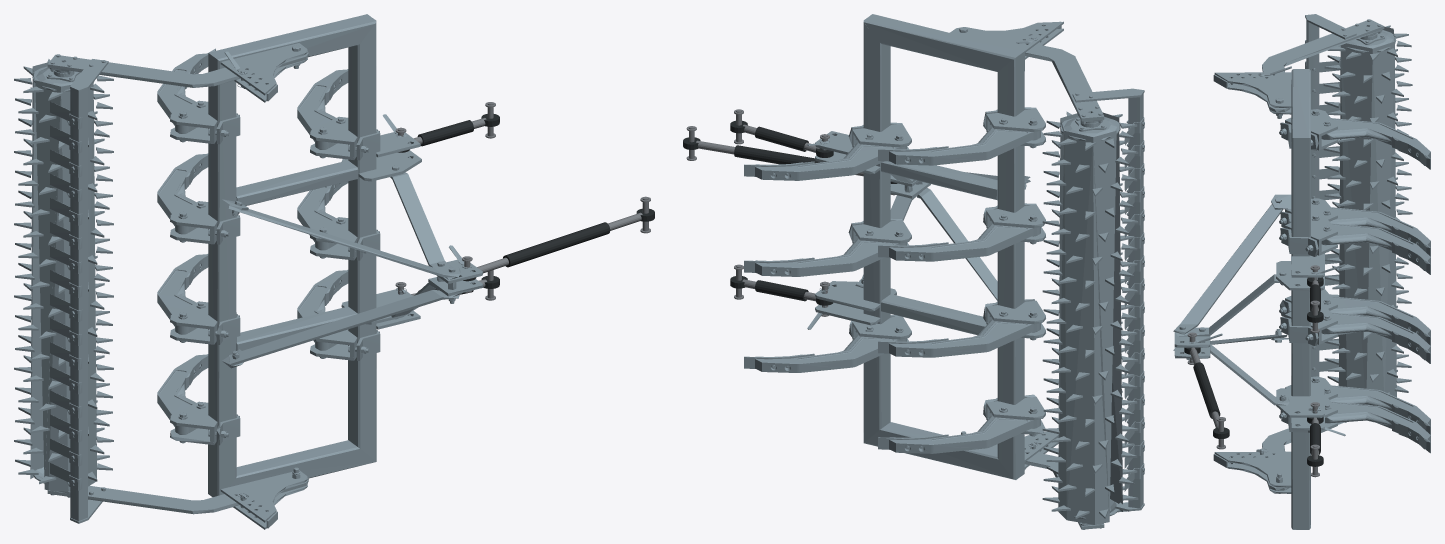
The model's file is implement_compact_chisel_plow_visual.obj.
3 renders of one model, left to right at view 1: azimuth 30°, elevation 25°; view 2: azimuth 150°, elevation 25°; view 3: azimuth 270°, elevation 25°, orthographic. The views are drawn at different scales.
Visible parts, largest first — view 1: solid_218, solid_17, solid_11, solid_215, solid_10, solid_9, solid_27, solid_214, solid_18, solid_213, solid_22, solid_20 (+17 smaller); view 2: solid_218, solid_11, solid_17, solid_10, solid_215, solid_47, solid_97, solid_147, solid_197, solid_72, solid_172, solid_122 (+22 smaller); view 3: solid_218, solid_17, solid_4, solid_214, solid_20, solid_22, solid_122, solid_47, solid_72, solid_215, solid_172, solid_10 (+29 smaller).
Boxes of the visible parts, x1,y1,x2,y2 form: solid_218: (30,62,96,491); solid_17: (348,20,376,461); solid_11: (208,53,236,497); solid_215: (70,89,87,521); solid_10: (208,14,376,61); solid_9: (208,440,375,496); solid_27: (229,290,459,365); solid_214: (47,52,308,87); solid_18: (236,160,358,205); solid_213: (47,479,308,514); solid_22: (220,470,307,522); solid_20: (220,43,307,95); solid_218: (1058,112,1122,524); solid_11: (997,51,1024,479); solid_17: (863,14,890,442); solid_10: (863,14,1024,71); solid_215: (1128,94,1143,508); solid_47: (889,127,1040,165); solid_97: (889,223,1040,261); solid_147: (889,319,1040,357); solid_197: (889,415,1040,453); solid_72: (755,142,906,180); solid_172: (755,334,906,372); solid_122: (755,238,906,276); solid_218: (1338,27,1396,404); solid_17: (1291,138,1310,529); solid_4: (1173,204,1282,334); solid_214: (1262,20,1384,112); solid_20: (1214,72,1291,107); solid_22: (1214,451,1291,487); solid_122: (1321,312,1430,352); solid_47: (1321,118,1430,158); solid_72: (1321,223,1430,263); solid_215: (1306,20,1319,376); solid_172: (1325,401,1430,441); solid_10: (1291,69,1310,141).
Size of the model in its own units: 2.87 by 2.26 by 1.31.
